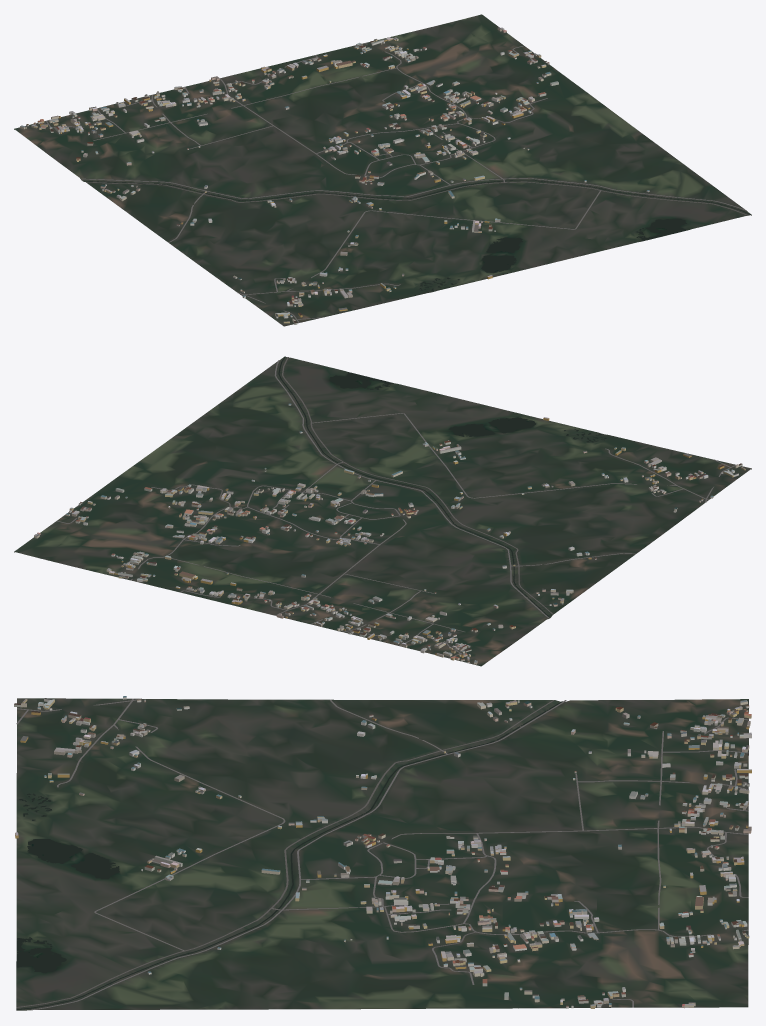
The picture shows the model from 3 angles, top to bottom: view 1: azimuth 30°, elevation 25°; view 2: azimuth 150°, elevation 25°; view 3: azimuth 270°, elevation 25°; orthographic projection. The views are drawn at different scales.
Parts seen in each view (by area): view 1: ground, buildings, roads, water; view 2: ground, buildings, roads, water; view 3: ground, buildings, roads, water.
Boxes of the visible parts, <box> form: ground: <box>14,14,751,326</box>; buildings: <box>20,27,649,324</box>; roads: <box>46,43,747,322</box>; water: <box>83,180,751,290</box>; ground: <box>14,357,751,666</box>; buildings: <box>34,403,745,664</box>; roads: <box>56,357,735,658</box>; water: <box>278,356,606,617</box>; ground: <box>16,698,748,1010</box>; buildings: <box>14,696,751,1008</box>; roads: <box>16,698,748,1010</box>; water: <box>16,701,562,1009</box>.
Bounding box in the file's own units: 1406 × 18.05 × 1412.
